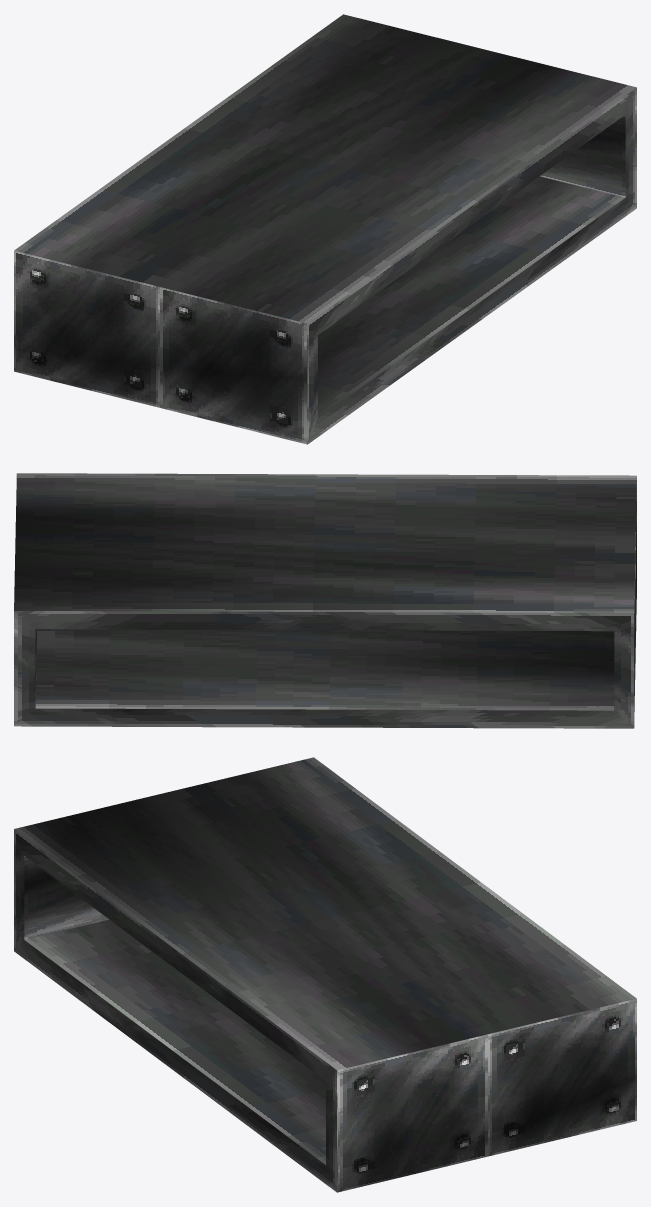
File: SWORDLIGHT20_BRIDGEHOUSING01.fbx
3 views of the same model, one above another, from view 1: azimuth 30°, elevation 25°; view 2: azimuth 150°, elevation 25°; view 3: azimuth 270°, elevation 25° (orthographic). The views are drawn at different scales.
Visible parts, largest first — view 1: SWORDLIGHT20_BRIDGEHOUSING01; view 2: SWORDLIGHT20_BRIDGEHOUSING01; view 3: SWORDLIGHT20_BRIDGEHOUSING01.
Part boxes in pixels (left/top/right/bottom): SWORDLIGHT20_BRIDGEHOUSING01: left=14, top=14, right=636, bottom=444; SWORDLIGHT20_BRIDGEHOUSING01: left=14, top=473, right=636, bottom=728; SWORDLIGHT20_BRIDGEHOUSING01: left=14, top=757, right=636, bottom=1192.
Bounding box in the file's own units: 19105 × 3480 × 16068.
Materials: 1 (1 with a texture image).
